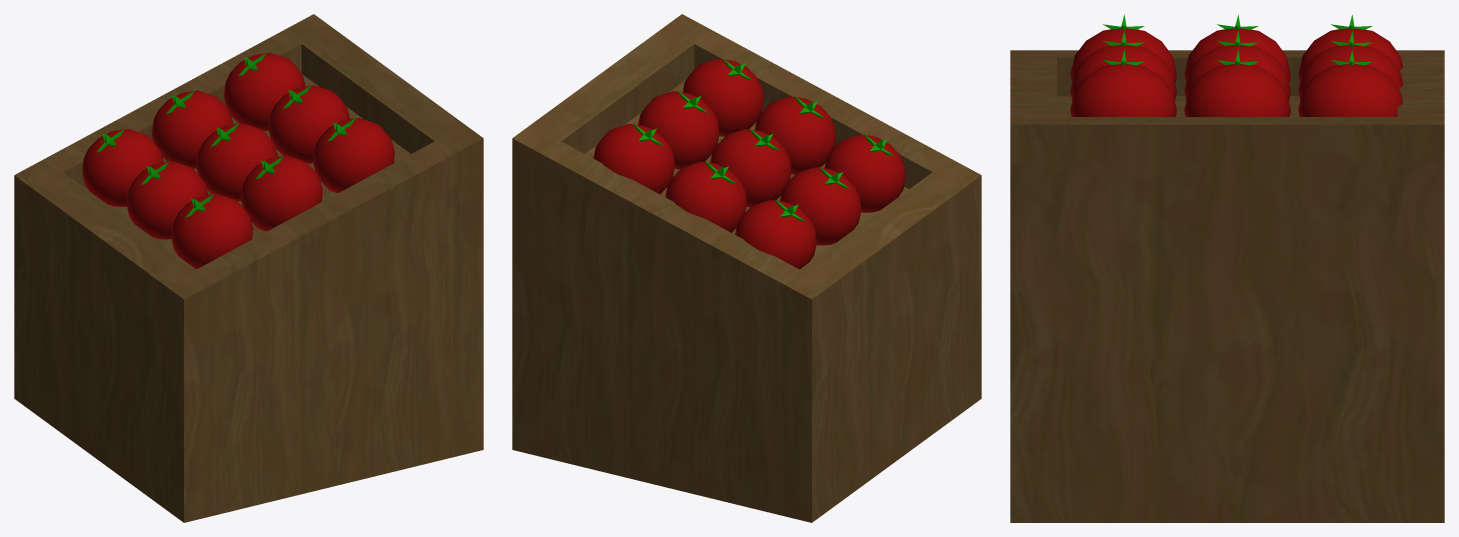
File: TOMATE_SPAWNER_PRP.fbx
The picture shows the model from 3 angles, left to right: view 1: azimuth 30°, elevation 25°; view 2: azimuth 150°, elevation 25°; view 3: azimuth 270°, elevation 25°; orthographic projection. The views are drawn at different scales.
Visible parts, largest first — view 1: TOMATE_SPAWNER_PRP; view 2: TOMATE_SPAWNER_PRP; view 3: TOMATE_SPAWNER_PRP.
Part boxes in pixels (box(x1,y1,x2,y2)): TOMATE_SPAWNER_PRP: box(14, 14, 483, 522); TOMATE_SPAWNER_PRP: box(512, 14, 981, 522); TOMATE_SPAWNER_PRP: box(1010, 14, 1444, 522).
Size of the model in its own units: 47.33 by 48.37 by 46.47.
Materials: 3 (1 with a texture image).
